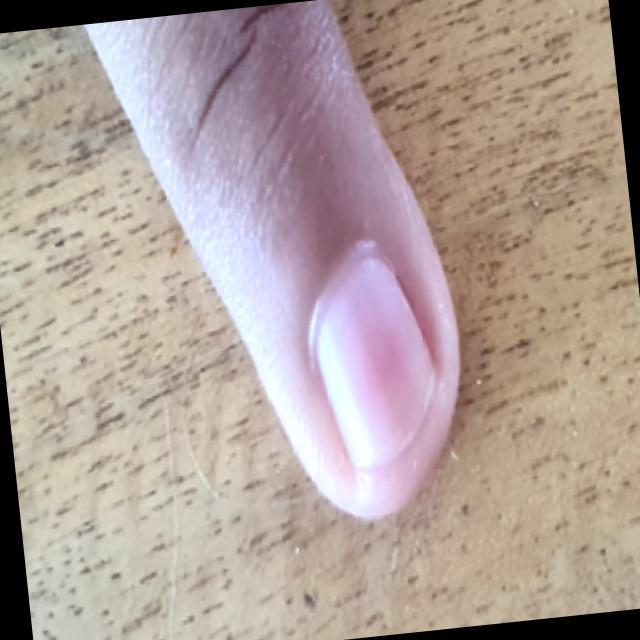Nail: (312, 254, 437, 470)
